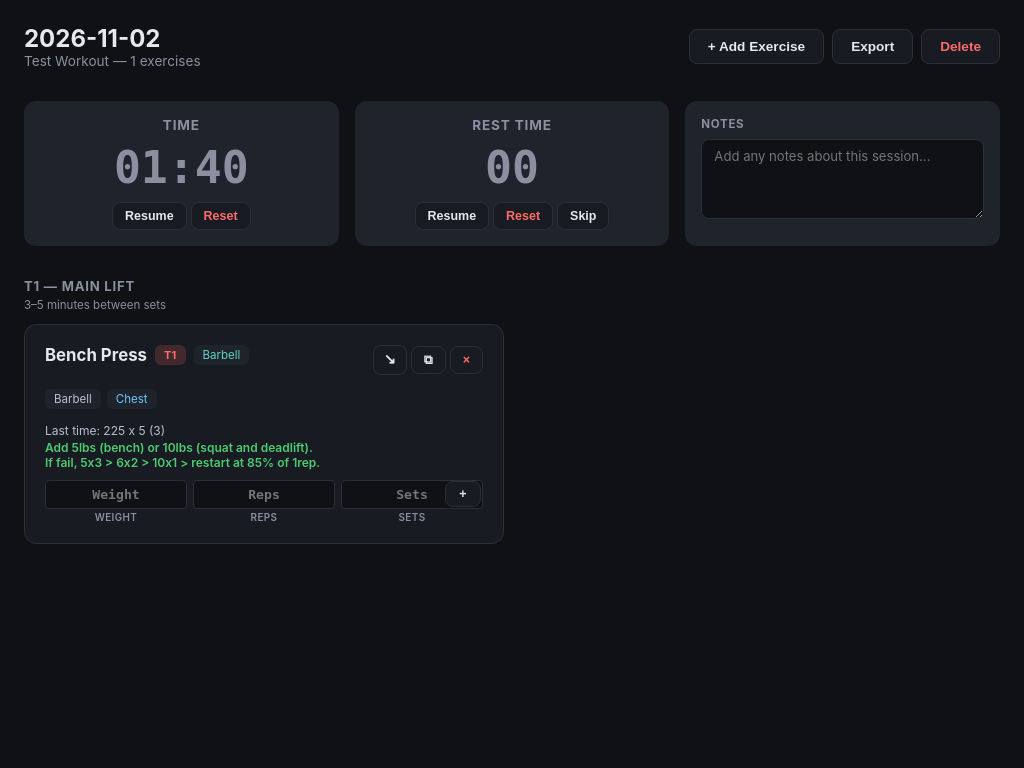
record identity on the session detail card › shows Last time on a duplicated exercise
This screenshot has width=1024, height=768.
expect the element that starts with "Last time:" shows "Last time: 225 x 5 (3)": met, box [45,423,320,470]
Click the button titled "Duplicate exercise" at [428, 360], box [411,346,446,374]
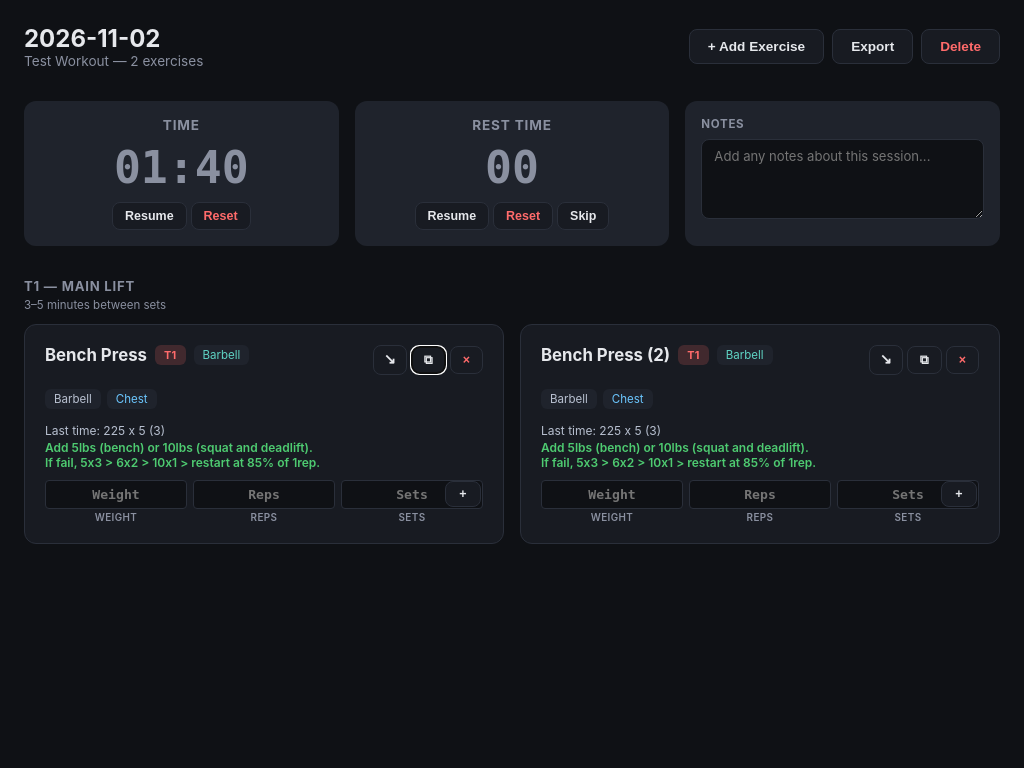
expect the text "Last time: 225 x 5 (3)" is shown: met, box [541,423,816,470]
